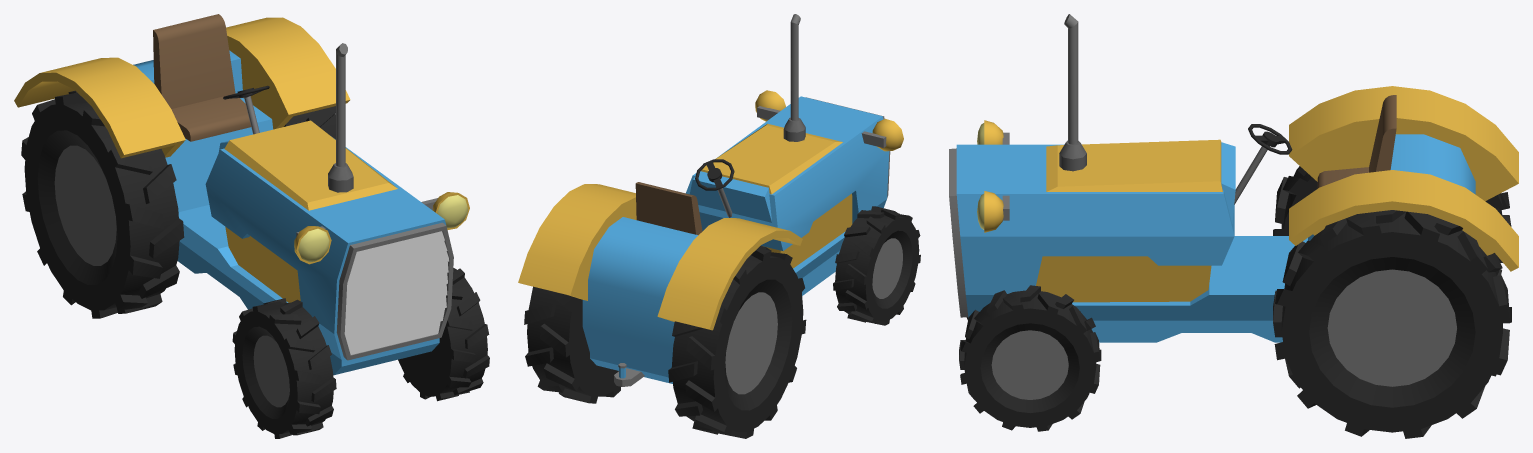
The model's file is Tractor_01_03.fbx.
3 renders of one model, left to right at view 1: azimuth 30°, elevation 25°; view 2: azimuth 150°, elevation 25°; view 3: azimuth 270°, elevation 25°, orthographic. The views are drawn at different scales.
Visible parts, largest first — view 1: Tractor_01_03, Tractor_01_03_Stearing_Wheel; view 2: Tractor_01_03, Tractor_01_03_Stearing_Wheel; view 3: Tractor_01_03, Tractor_01_03_Stearing_Wheel.
Part boxes in pixels (<box>): Tractor_01_03: <box>14,14,489,438</box>; Tractor_01_03_Stearing_Wheel: <box>223,85,269,134</box>; Tractor_01_03: <box>518,14,920,438</box>; Tractor_01_03_Stearing_Wheel: <box>695,159,734,217</box>; Tractor_01_03: <box>949,14,1518,438</box>; Tractor_01_03_Stearing_Wheel: <box>1234,124,1292,204</box>.
Size of the model in its own units: 222 by 332 by 463.
